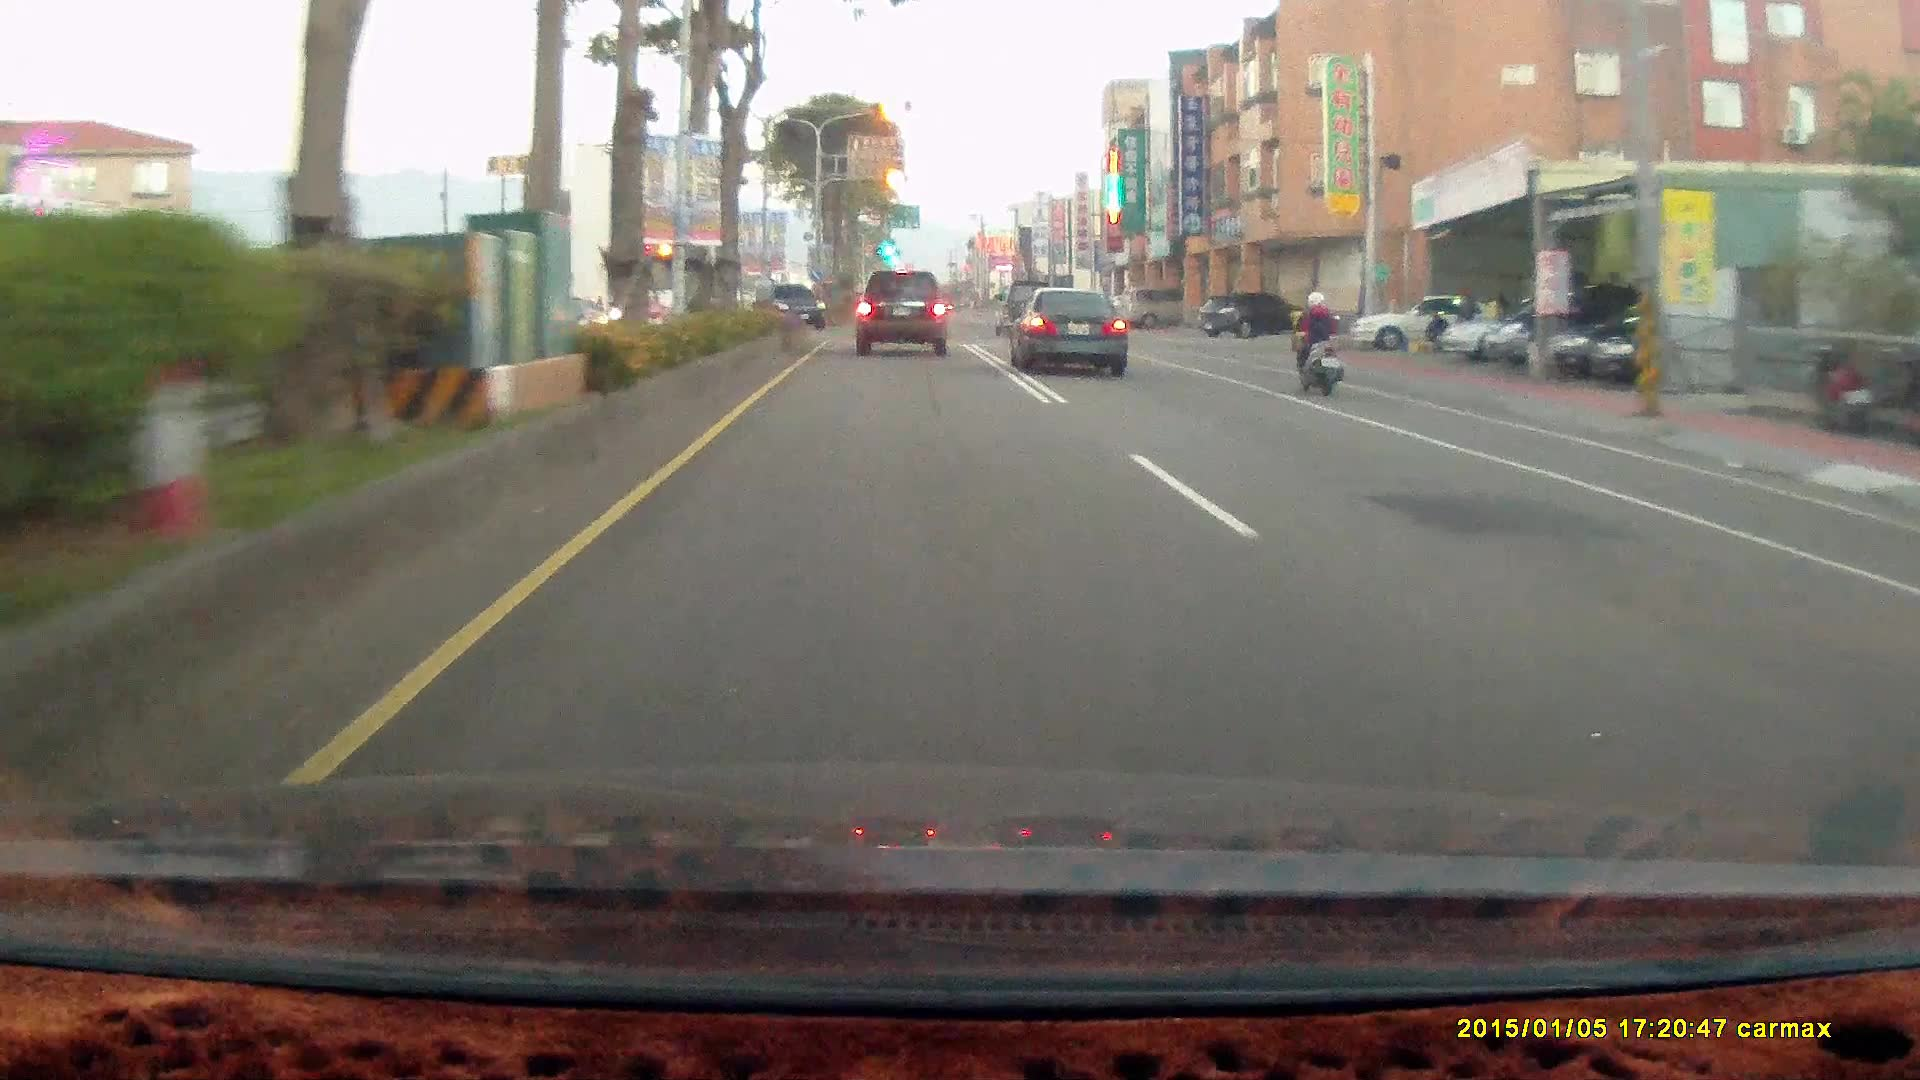pedestrian: (1458, 285, 1479, 342), (1424, 307, 1450, 350)
rider: (1278, 281, 1357, 406), (1287, 289, 1345, 397)
vehicle: (1588, 301, 1766, 386), (1541, 300, 1723, 379), (1479, 285, 1642, 364), (1345, 286, 1514, 357), (1020, 289, 1134, 385), (1006, 285, 1128, 375), (1440, 297, 1592, 361), (856, 269, 953, 359), (1350, 291, 1489, 349), (854, 268, 947, 353), (1202, 294, 1305, 346), (1194, 290, 1304, 337), (754, 281, 830, 333), (1118, 284, 1204, 329), (990, 280, 1055, 335), (757, 284, 828, 331)
